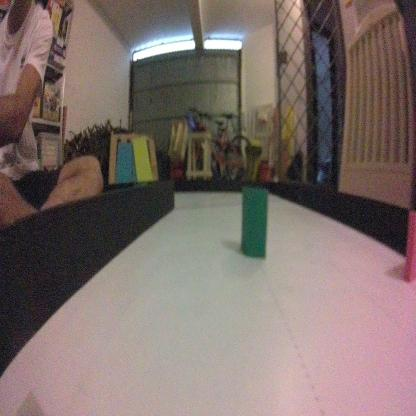green: (236, 182, 268, 261)
magenta: (402, 208, 416, 284)
